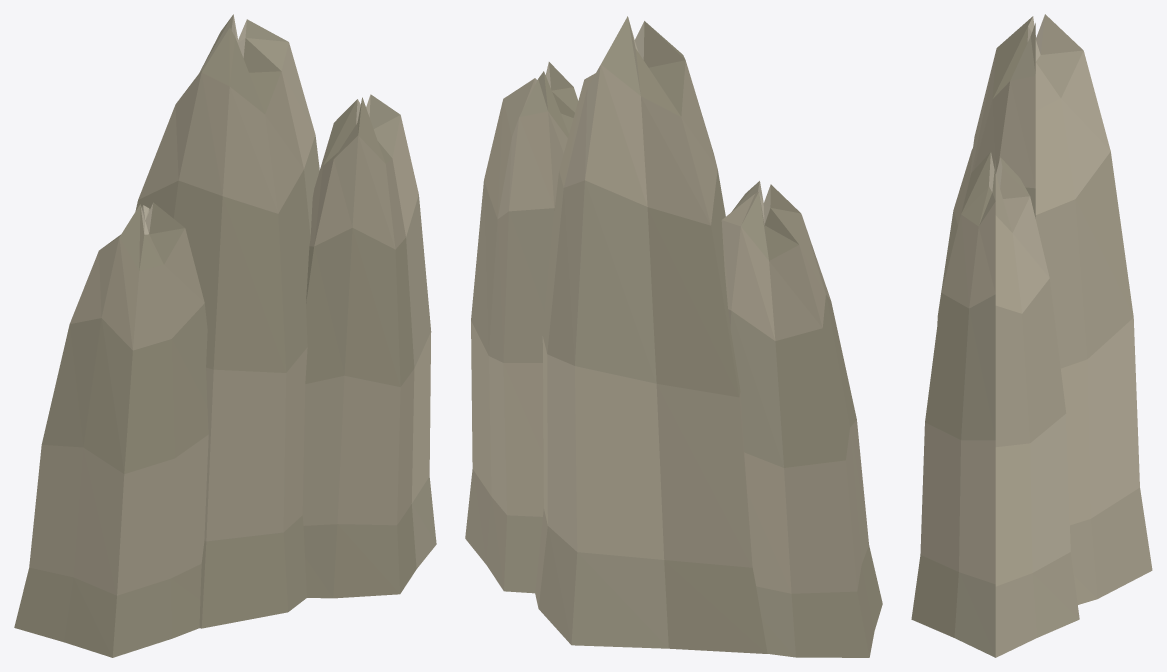
The model's file is highland-cliff.glb.
3 views of the same model, side by side, from view 1: azimuth 30°, elevation 25°; view 2: azimuth 150°, elevation 25°; view 3: azimuth 270°, elevation 25° (orthographic). The views are drawn at different scales.
Visible parts, largest first — view 1: Palette; view 2: Palette; view 3: Palette.
Boxes of the visible parts, box(x1,y1,x2,y2) form: Palette: box(14, 14, 436, 657); Palette: box(465, 16, 882, 657); Palette: box(911, 14, 1152, 657).
Size of the model in its own units: 15.11 by 19.94 by 7.83.
Materials: 1 (1 with a texture image).
